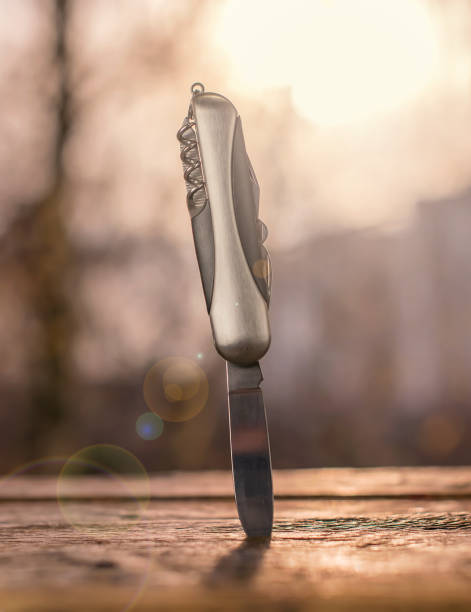knife: (176, 80, 275, 539)
